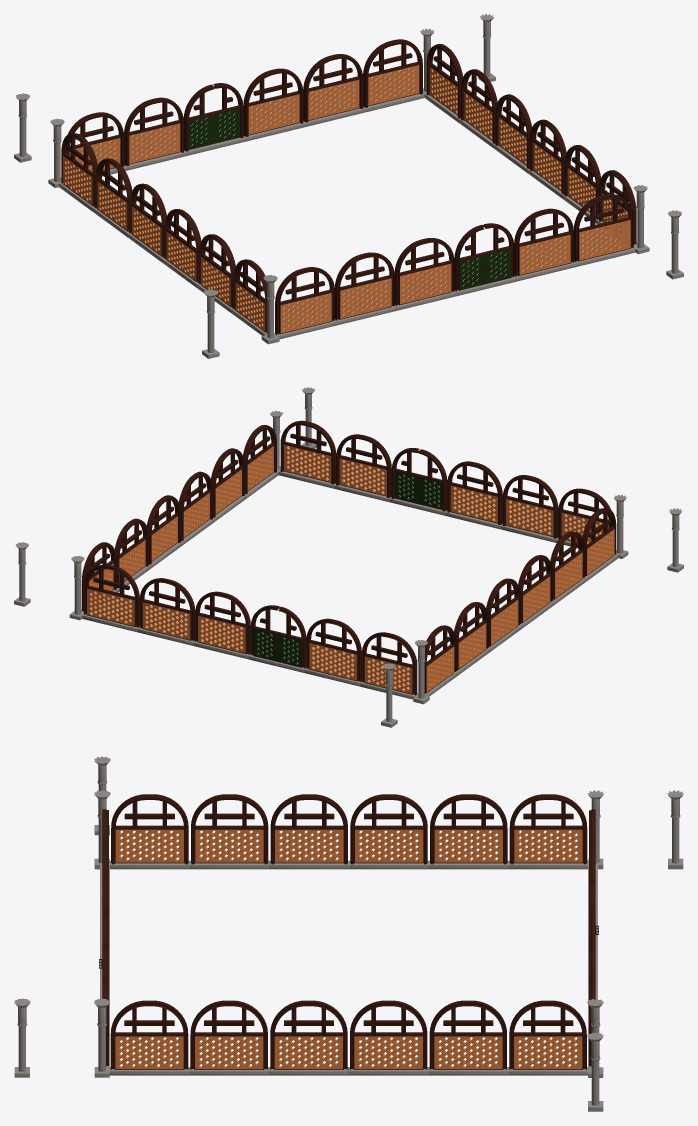
File: Fence.fbx
3 views of the same model, one above another, from view 1: azimuth 30°, elevation 25°; view 2: azimuth 150°, elevation 25°; view 3: azimuth 270°, elevation 25° (orthographic). The views are drawn at different scales.
Visible parts, largest first — view 1: Procedual Fence; view 2: Procedual Fence; view 3: Procedual Fence.
Boxes of the visible parts, x1,y1,x2,y2 form: Procedual Fence: (14, 14, 683, 358); Procedual Fence: (14, 387, 683, 727); Procedual Fence: (14, 756, 683, 1111).
Bounding box in the file's own units: 840 × 100 × 840.
